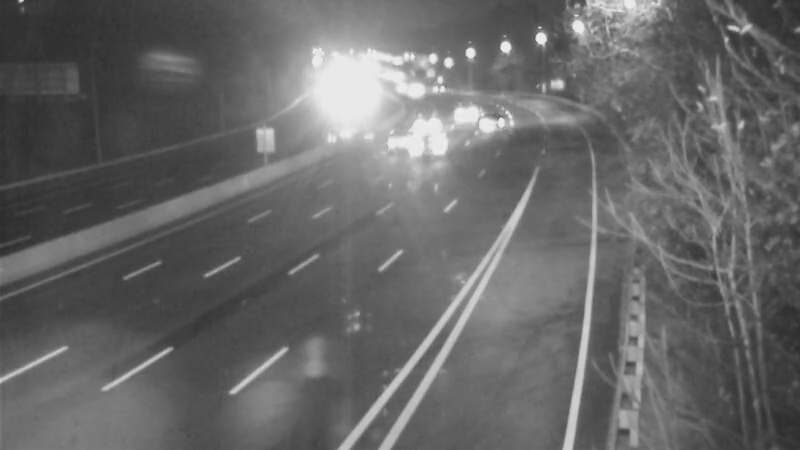vehicle: (438, 82, 488, 132), (403, 96, 453, 146), (470, 97, 520, 147), (375, 107, 425, 157), (402, 118, 452, 168)
